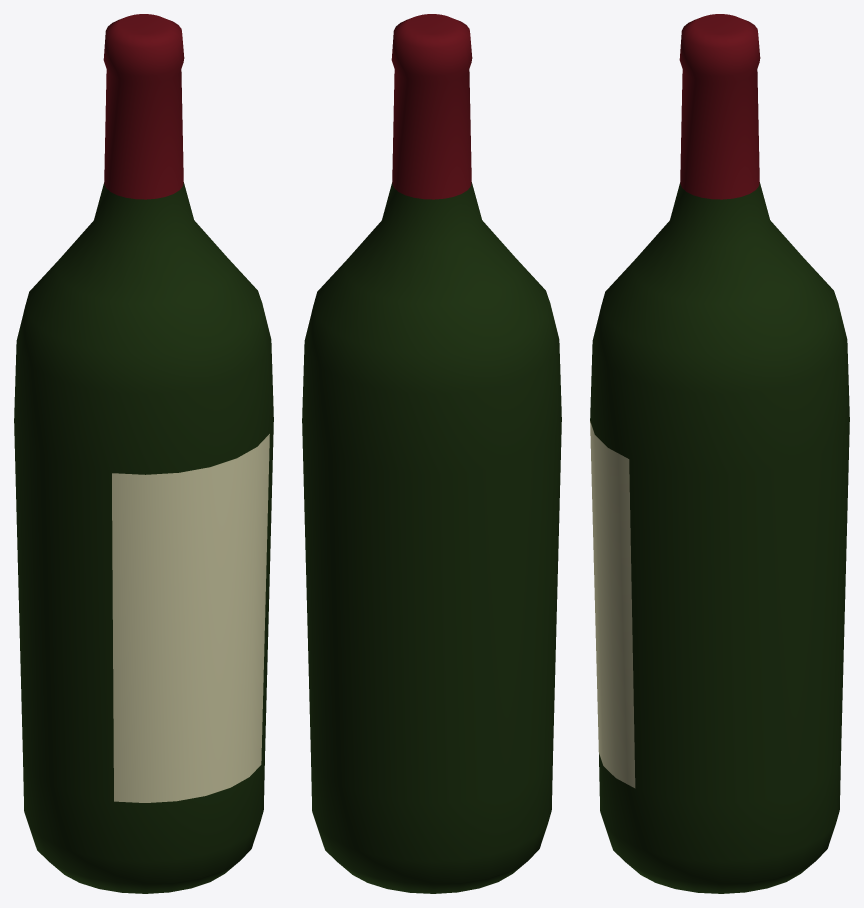
Rendered from Wine.glb.
3 views of the same model, side by side, from view 1: azimuth 30°, elevation 25°; view 2: azimuth 150°, elevation 25°; view 3: azimuth 270°, elevation 25° (orthographic).
Visible parts, largest first — view 1: Bottle; view 2: Bottle; view 3: Bottle.
Boxes of the visible parts, x1,y1,x2,y2 form: Bottle: [14, 14, 273, 893]; Bottle: [302, 14, 561, 893]; Bottle: [590, 14, 849, 893].
Size of the model in its own units: 0.6229 by 2.2 by 0.6229.
